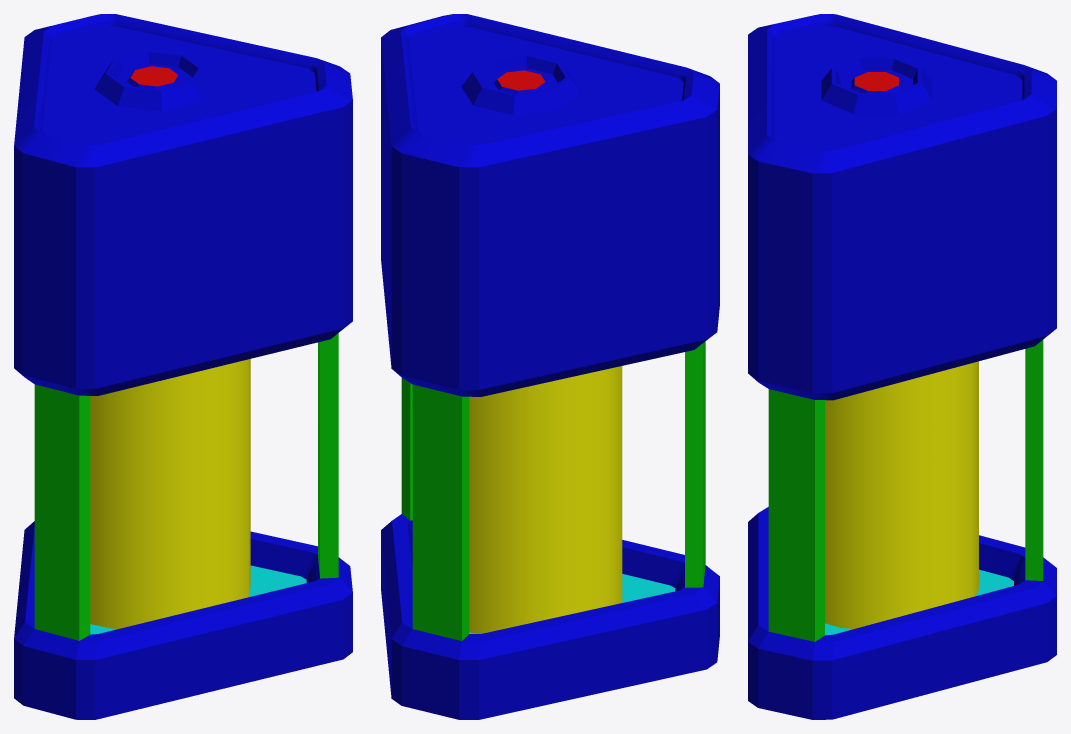
File: SM0028_Scifi_Room_PowerCell_01.fbx
The picture shows the model from 3 angles, left to right: view 1: azimuth 30°, elevation 25°; view 2: azimuth 150°, elevation 25°; view 3: azimuth 270°, elevation 25°; orthographic projection.
Parts seen in each view (by area): view 1: Body; view 2: Body; view 3: Body.
Boxes of the visible parts, x1,y1,x2,y2 form: Body: [14, 14, 352, 719]; Body: [381, 14, 719, 719]; Body: [748, 14, 1056, 719].
Size of the model in its own units: 38.98 by 32.25 by 65.11.
